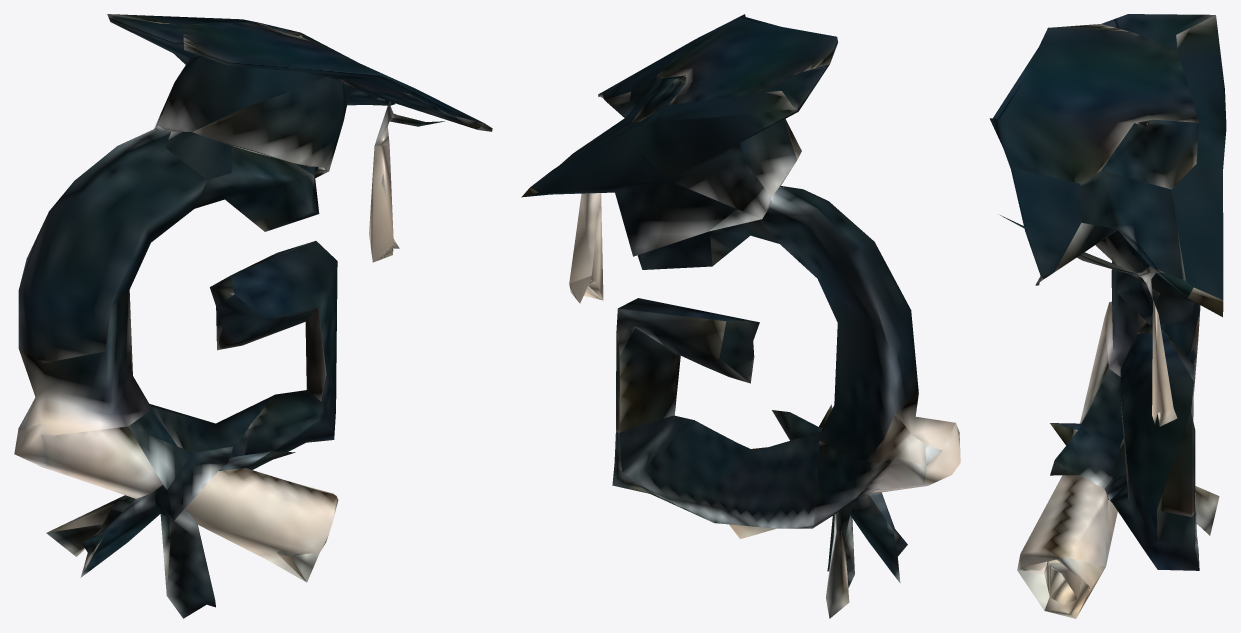
3 views of the same model, side by side, from view 1: azimuth 30°, elevation 25°; view 2: azimuth 150°, elevation 25°; view 3: azimuth 270°, elevation 25° (orthographic). The views are drawn at different scales.
Parts seen in each view (by area): view 1: Graduation-G; view 2: Graduation-G; view 3: Graduation-G.
Part boxes in pixels (x1=…): Graduation-G: x1=14, y1=14, x2=492, y2=618; Graduation-G: x1=521, y1=14, x2=960, y2=618; Graduation-G: x1=989, y1=14, x2=1226, y2=618.
Size of the model in its own units: 0.262 by 0.3312 by 0.1245.
1 material, 1 textured.
